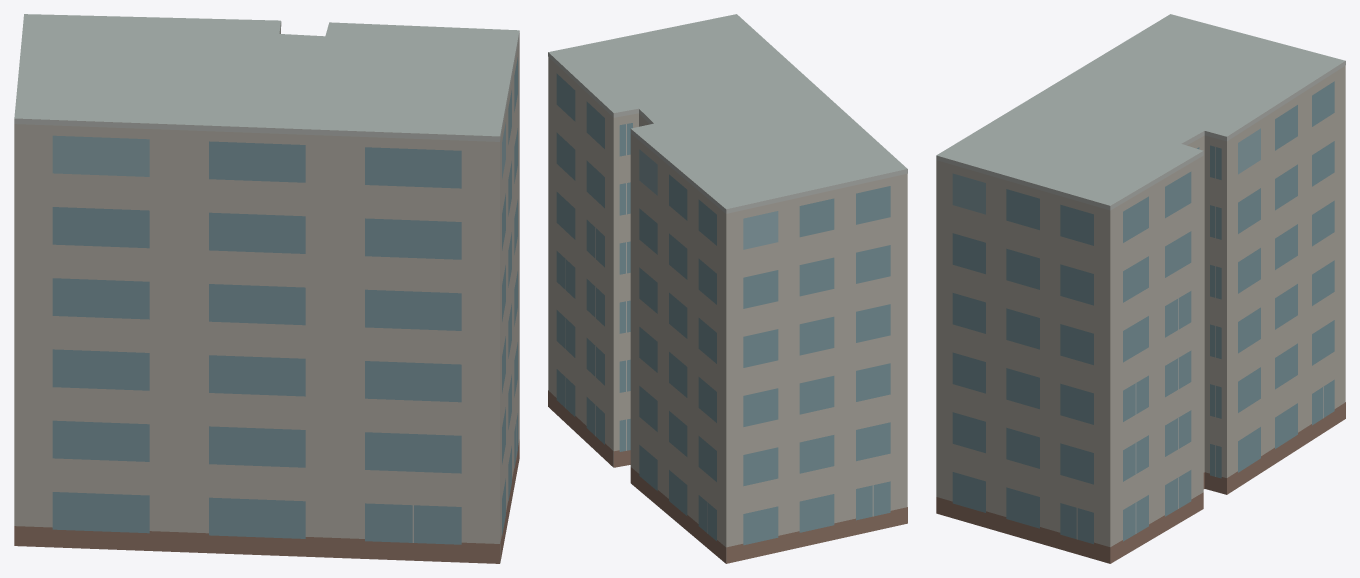
Rendered from survey-upis-32650685.glb.
3 views of the same model, side by side, from view 1: azimuth 30°, elevation 25°; view 2: azimuth 150°, elevation 25°; view 3: azimuth 270°, elevation 25° (orthographic). The views are drawn at different scales.
Parts seen in each view (by area): view 1: survey-upis-32650685.tmp; view 2: survey-upis-32650685.tmp; view 3: survey-upis-32650685.tmp.
Part boxes in pixels (<box>): survey-upis-32650685.tmp: <box>14,14,519,563</box>; survey-upis-32650685.tmp: <box>548,14,907,563</box>; survey-upis-32650685.tmp: <box>936,14,1345,563</box>.
Bounding box in the file's own units: 21.5 × 18.7 × 19.39.
